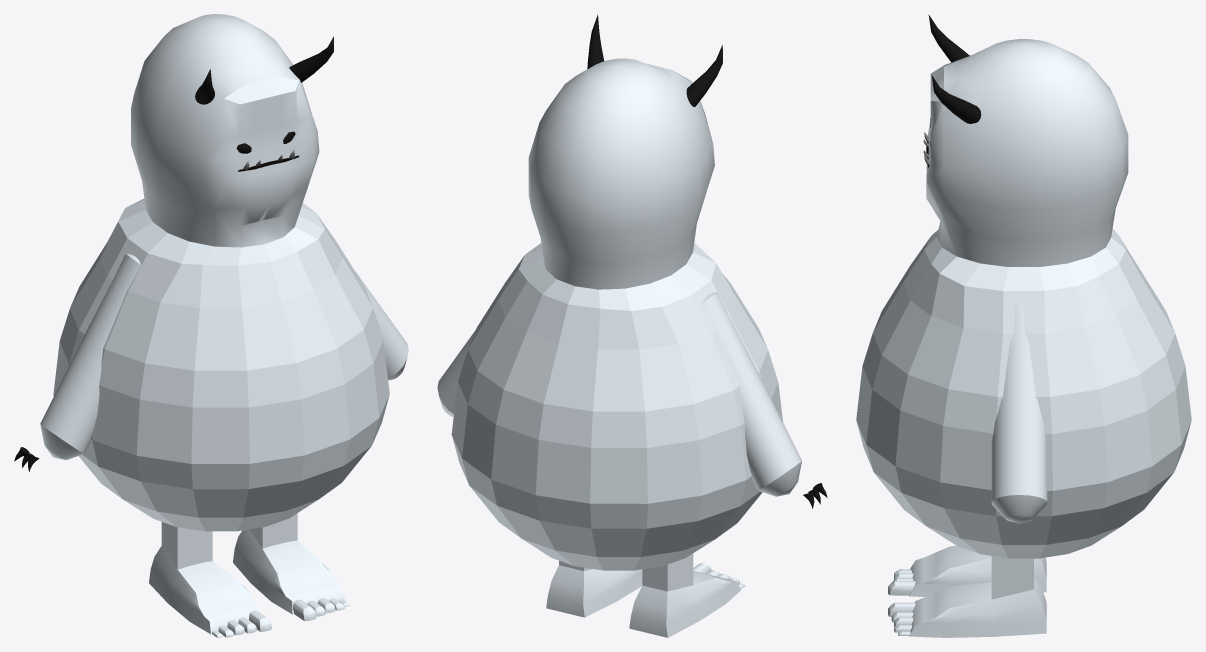
The model's file is iethi.fbx.
3 renders of one model, left to right at view 1: azimuth 30°, elevation 25°; view 2: azimuth 150°, elevation 25°; view 3: azimuth 270°, elevation 25°, orthographic.
Visible parts, largest first — view 1: Sphere003, y007, y006, Cylinder001, Cylinder002, Cylinder005; view 2: Sphere003, Cylinder001, y007, y006, Cylinder002, Cylinder006; view 3: Sphere003, y006, Cylinder002, y007, Cylinder005, Cylinder006.
Part boxes in pixels (box(x1,y1,x2,y2)): Sphere003: box(53, 14, 389, 531); y007: box(149, 522, 271, 637); y006: box(233, 513, 349, 621); Cylinder001: box(40, 253, 141, 460); Cylinder002: box(354, 270, 408, 380); Cylinder005: box(289, 36, 333, 82); Sphere003: box(451, 58, 782, 570); Cylinder001: box(702, 292, 801, 496); y007: box(629, 553, 744, 637); y006: box(546, 560, 642, 617); Cylinder002: box(437, 330, 475, 417); Cylinder006: box(686, 45, 722, 106); Sphere003: box(856, 39, 1191, 558); y006: box(888, 556, 1046, 637); Cylinder002: box(991, 304, 1047, 523); y007: box(888, 545, 1046, 596); Cylinder005: box(931, 75, 981, 123); Cylinder006: box(928, 14, 969, 62).
Size of the model in its own units: 105 by 146 by 79.35.
Materials: 4 (2 with a texture image).
